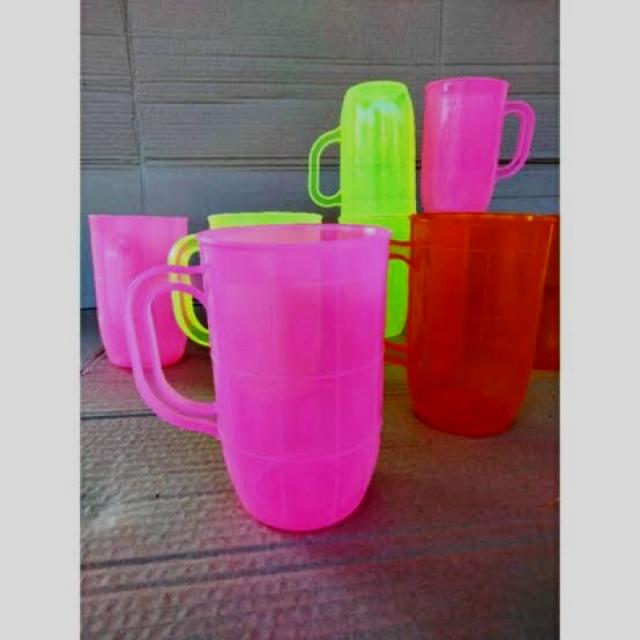Cangkir: (130, 212, 410, 534), (378, 200, 556, 440), (293, 76, 427, 230), (83, 202, 200, 378), (421, 61, 539, 216)
